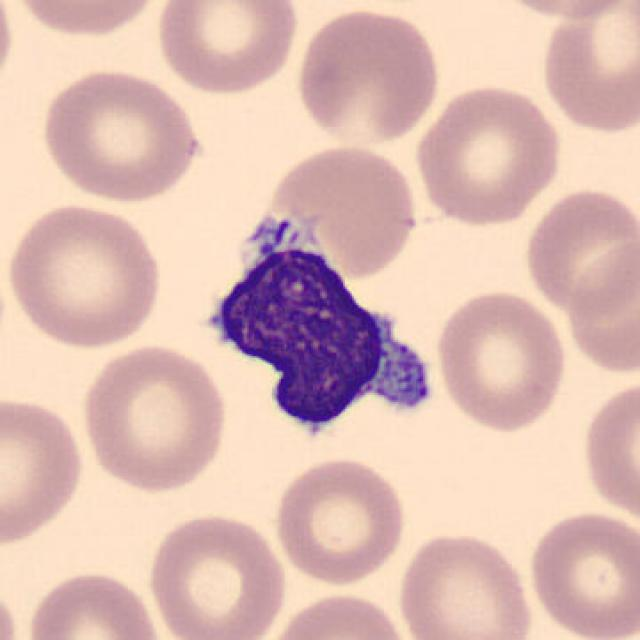Lymphocyte: (186, 201, 444, 453)
RBC: (2, 199, 167, 351), (77, 340, 231, 496), (36, 64, 204, 204), (411, 80, 565, 230), (292, 4, 444, 148), (267, 139, 421, 279), (432, 286, 571, 436), (144, 509, 290, 640), (270, 453, 411, 587), (519, 182, 638, 319), (395, 527, 537, 640), (524, 506, 638, 640), (153, 0, 302, 97), (537, 0, 638, 138), (0, 391, 87, 550), (562, 235, 638, 379), (21, 566, 167, 640), (578, 374, 638, 529), (262, 589, 414, 640), (5, 0, 169, 39), (478, 0, 638, 21), (0, 0, 18, 102), (0, 576, 25, 640)
